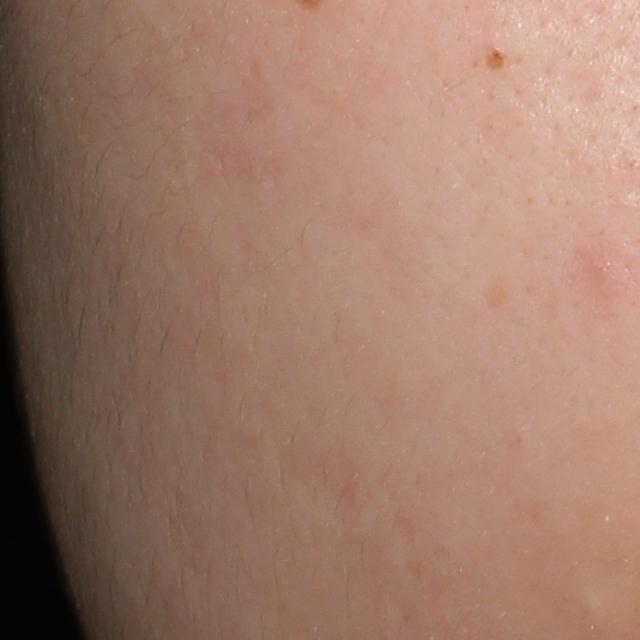comedo: (579, 589, 613, 624)
nevus: (483, 45, 507, 72)
